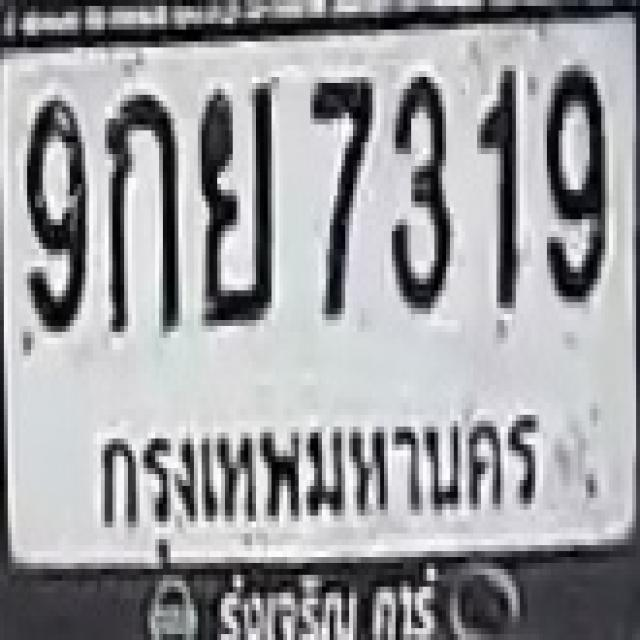-: (194, 77, 271, 320), (101, 89, 174, 332)
1: (473, 65, 516, 302)
3: (388, 71, 446, 308)
7: (306, 71, 368, 314)
9: (24, 95, 86, 326), (543, 60, 601, 296)
BKK: (81, 377, 549, 573)
